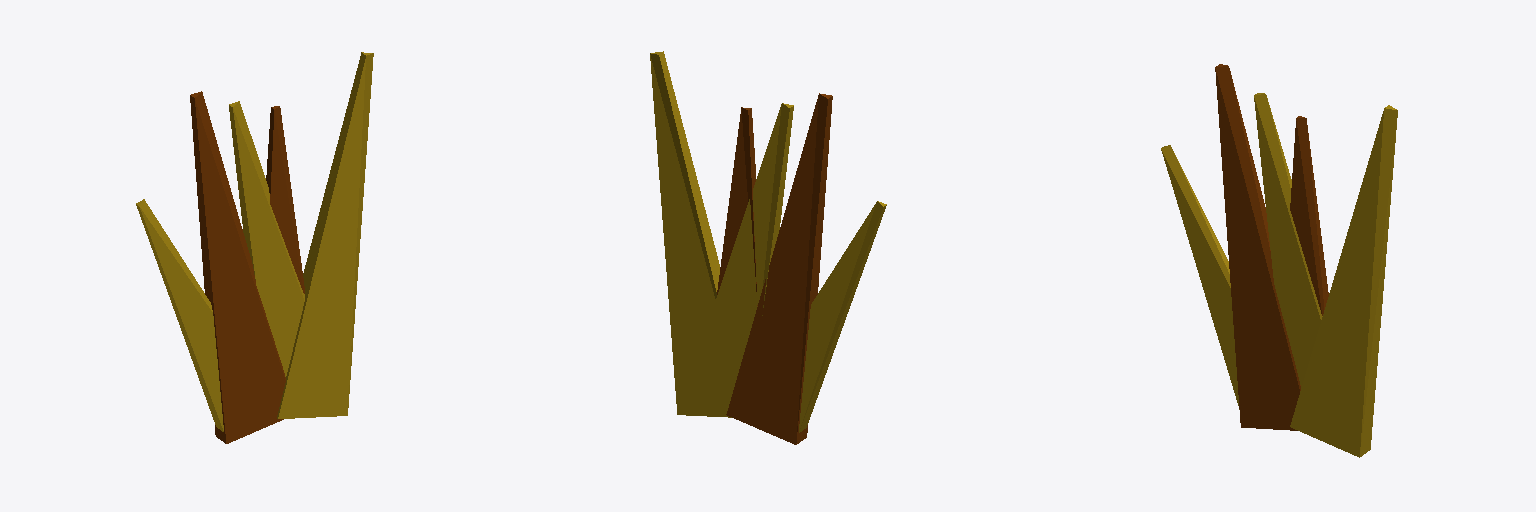
The picture shows the model from 3 angles: view 1: azimuth 30°, elevation 25°; view 2: azimuth 150°, elevation 25°; view 3: azimuth 330°, elevation 25°; orthographic projection.
Parts seen in each view (by area): view 1: Grass_1_Autumn_2_mat_Cube.057; view 2: Grass_1_Autumn_2_mat_Cube.057; view 3: Grass_1_Autumn_2_mat_Cube.057.
Part boxes in pixels (bbox=[...]): Grass_1_Autumn_2_mat_Cube.057: bbox=[136, 52, 373, 443]; Grass_1_Autumn_2_mat_Cube.057: bbox=[650, 51, 886, 444]; Grass_1_Autumn_2_mat_Cube.057: bbox=[1161, 64, 1397, 457].
Size of the model in its own units: 0.945 by 1.35 by 0.0843.